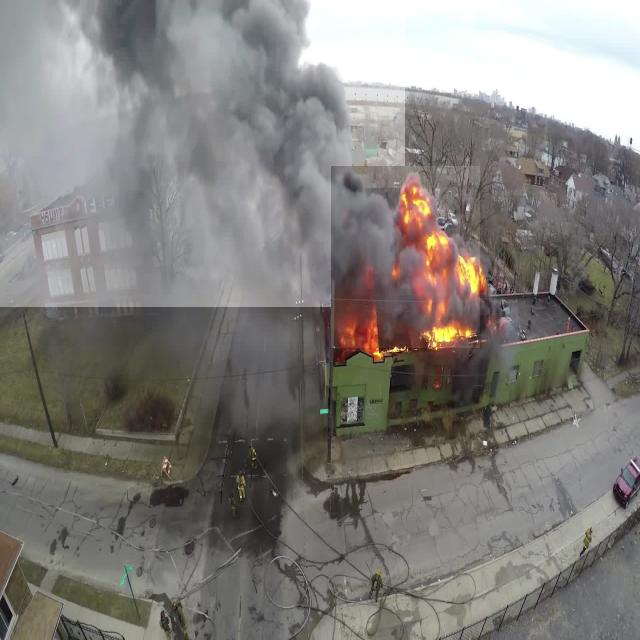Fire: (331, 166, 480, 348)
Smoke: (0, 0, 405, 307)
